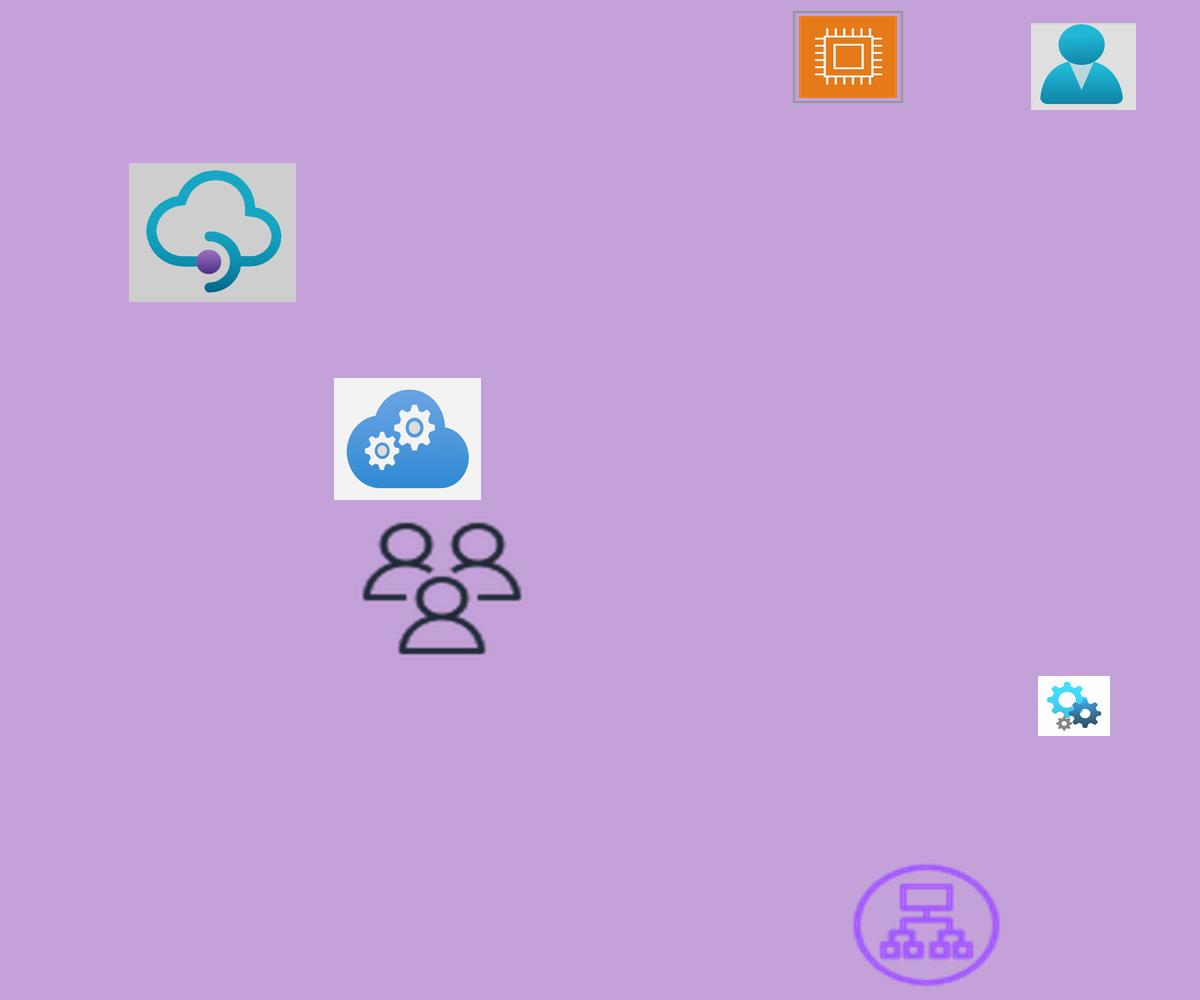AWS-Category_Compute: (793, 11, 903, 103)
AWS-Res_Elastic-Load-Balancing_Application-Load-Balancer: (847, 859, 1006, 991)
AWS-Res_Users: (356, 517, 528, 660)
Azure_api: (1038, 676, 1110, 736)
Azure_api_gateway: (129, 163, 296, 302)
Azure_cloud_services: (334, 378, 481, 500)
Azure_users: (1031, 23, 1136, 110)
